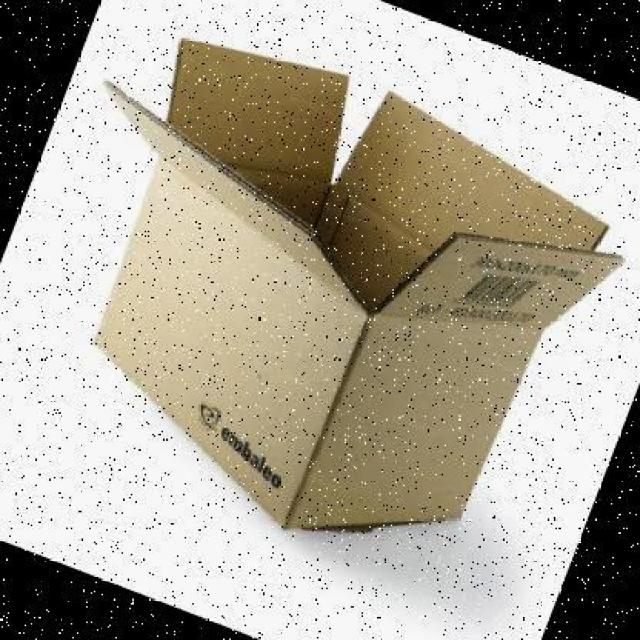box: (93, 37, 625, 531)
opened: (95, 37, 624, 326)
